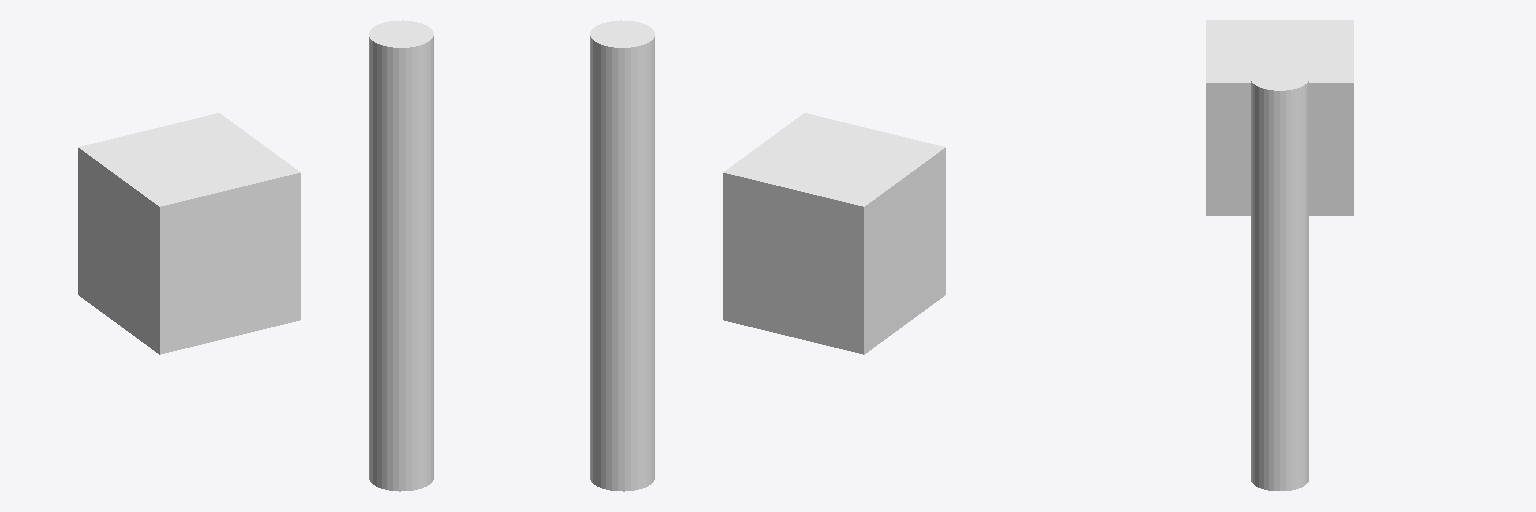
robot.urdf — 2_R_robot:
<robot name="2_R_robot">

<material name="blue">
   <color rgba="0 0 0.8 1"/>
</material>
<material name="black">
   <color rgba="0 0 0 1"/>
</material>
<material name="white">
   <color rgba="1 1 1 1"/>
</material>

   <!-- This is the fixed base 
    Insert the necessary tags(visual and geometry alone) 
    and the necassary values/properties.
       -->
   <link name="fixed_base">
   <visual>
      <origin rpy = "0 0 0" xyz = "0 0 0.25"/>
      <geometry>
         <box size ="0.5 0.5 0.5" />
      </geometry>
      <material name="white"/>
   </visual>
   </link>
   
     
   <!-- This is the  first link, l1 
   Insert the necessary tags(visual and geometry alone) 
   and the necassary values/properties.
      -->
   <link name="link_1">
      <axis xyz="0 0 1"/>
      <visual>
         <origin rpy="0 0 0" xyz="0.75 0 0"/>
         <geometry>
            <cylinder radius="0.10" length="1.5"/>
         </geometry>
         <material name="white"/>         
      </visual>
   </link>       
   

   <!-- This is the  Revolute join,conecting base and link_1 
        Insert the necessary tags
        (origin,
         parent,
         child,
         limit,
         axis) 
        and the necassary values/properties.
      -->
   <joint name="Revolute_joint_1" type="revolute">
      <visual>
         <material name="blue"/>
      </visual>
      <axis xyz="0 0 1"/>
      <limit effort="1000.0" lower="-3.14" upper="3.14" velocity="0.5"/>
      <origin rpy="0 0 0" xyz="0 0 0" />
      <parent link="fixed_base"/>
      <child link="link_1"/>
   </joint>
</robot>

--- Facts derived from the render (not from the file) ---
Views: 3 orthographic renders of the robot side by side, from view 1: azimuth 30°, elevation 25°; view 2: azimuth 150°, elevation 25°; view 3: azimuth 270°, elevation 25°.
Model 2_R_robot with 2 links and 1 joints (1 revolute), rooted at fixed_base, posed every joint at zero.
Links seen in each view (by area): view 1: fixed_base, link_1; view 2: fixed_base, link_1; view 3: link_1, fixed_base.
Boxes of the visible links, <box> form: fixed_base: <box>78,113,300,354</box>; link_1: <box>369,20,433,491</box>; fixed_base: <box>723,113,945,354</box>; link_1: <box>590,20,654,491</box>; link_1: <box>1251,66,1308,490</box>; fixed_base: <box>1206,20,1353,215</box>.
Size in the robot's own frame: 1.1 by 0.5 by 1.5 metres.
Geometry: primitives only (box / cylinder / sphere), no mesh files.